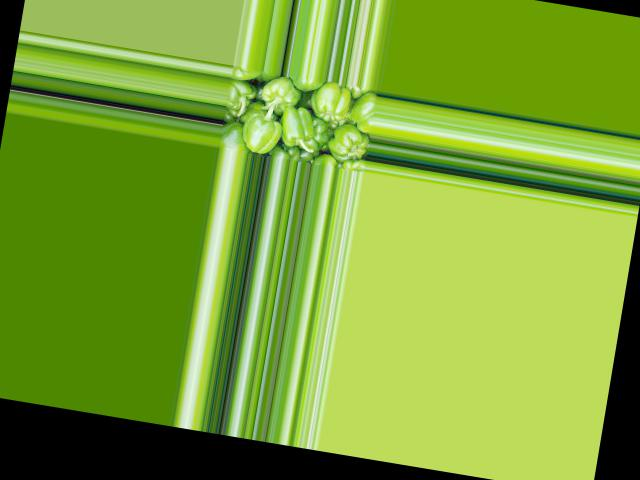bell_pepper: (218, 121, 255, 153)
